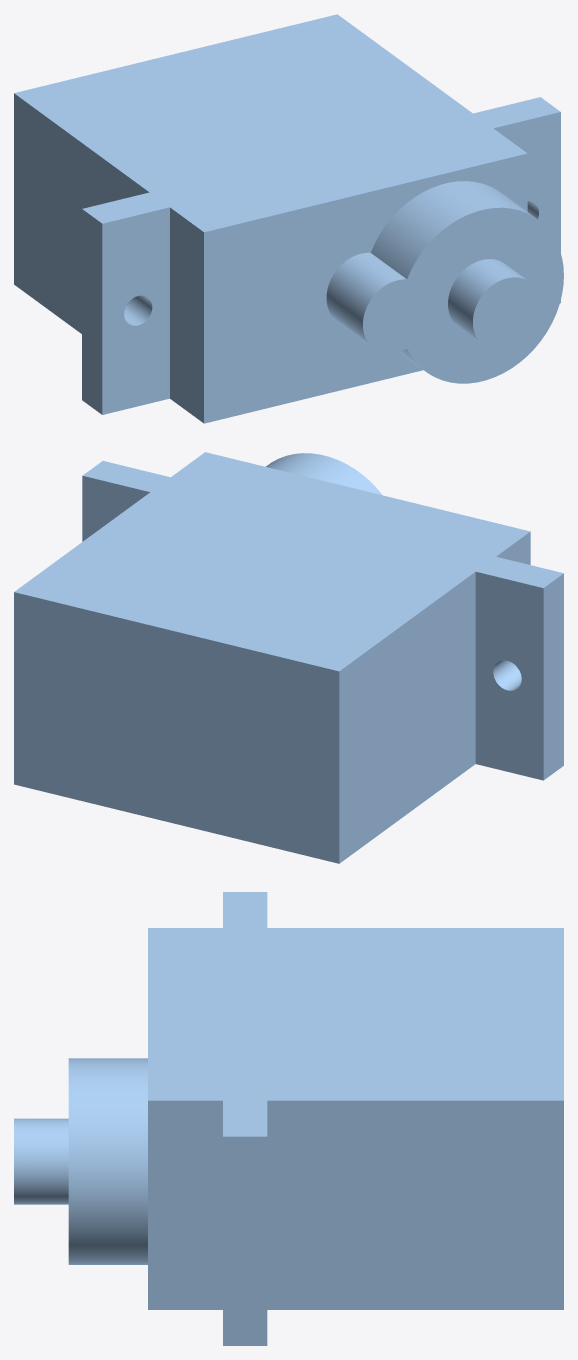
3 renders of one model, top to bottom at view 1: azimuth 30°, elevation 25°; view 2: azimuth 150°, elevation 25°; view 3: azimuth 270°, elevation 25°, orthographic. The views are drawn at different scales.
Parts seen in each view (by area): view 1: mesh2032, mesh2021, mesh2018, mesh2030, mesh2034, mesh2023, mesh2020, mesh2024, mesh2033, mesh2016, mesh2019, mesh2017 (+1 smaller); view 2: mesh2032, mesh2029, mesh2030, mesh2035, mesh2033, mesh2027, mesh2020, mesh2036, mesh2023; view 3: mesh2032, mesh2028, mesh2020, mesh2022, mesh2025, mesh2017.
Part boxes in pixels (x1,y1,x2,y2): mesh2032: (14,14,560,232); mesh2021: (204,153,527,423); mesh2018: (363,207,563,383); mesh2030: (14,93,149,333); mesh2034: (102,207,169,414); mesh2023: (170,207,203,423); mesh2020: (371,181,533,371); mesh2024: (494,112,560,303); mesh2033: (82,209,102,414); mesh2016: (473,277,540,350); mesh2019: (326,252,406,347); mesh2017: (448,259,527,343); mesh2032: (14,452,563,671); mesh2029: (14,592,339,863); mesh2030: (339,572,475,863); mesh2035: (475,572,543,780); mesh2033: (543,573,563,779); mesh2027: (82,475,149,541); mesh2020: (266,453,382,495); mesh2036: (493,660,521,690); mesh2023: (496,531,530,668); mesh2032: (148,892,563,1136); mesh2028: (267,1100,563,1309); mesh2020: (68,1058,147,1264); mesh2022: (148,1100,222,1309); mesh2025: (223,1136,267,1345); mesh2017: (14,1118,68,1204).
Bounding box in the file's own units: 0.0326 × 0.013 × 0.031.
